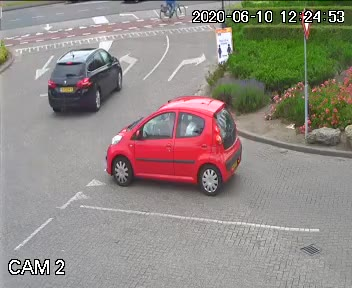car: (88, 100, 258, 189), (34, 45, 132, 122)
